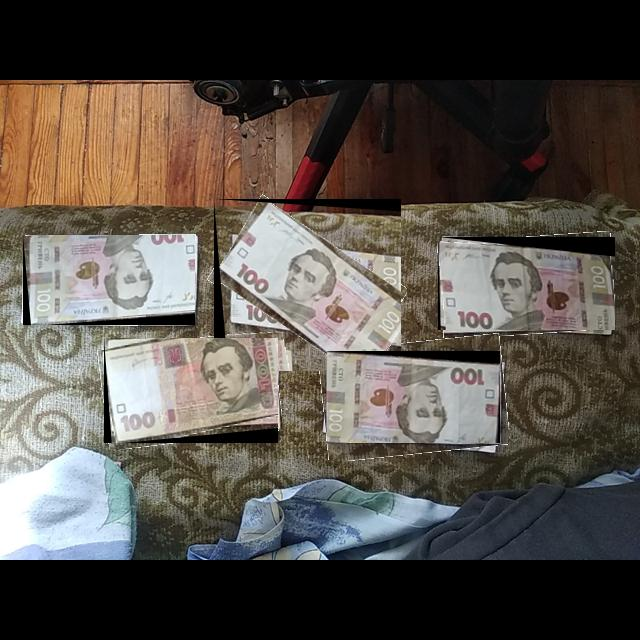100uah: (219, 202, 402, 372), (106, 338, 279, 444), (327, 352, 500, 444), (438, 243, 616, 331), (30, 235, 196, 326)
